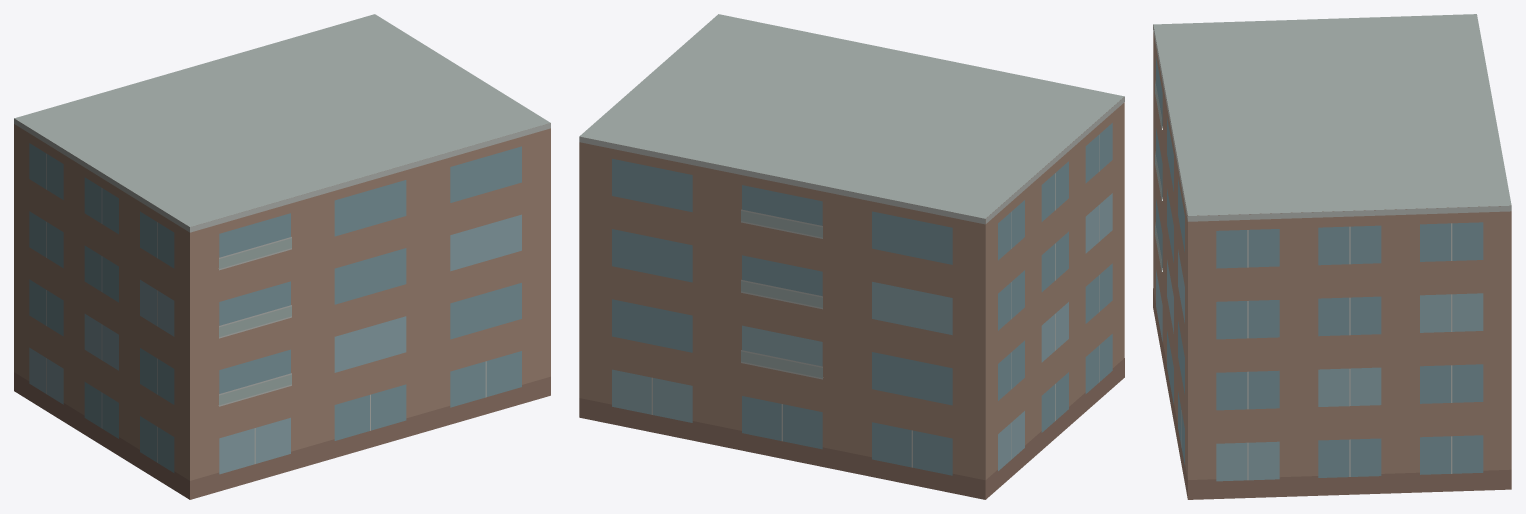
Rendered from survey-upis-33006680.glb.
3 views of the same model, side by side, from view 1: azimuth 30°, elevation 25°; view 2: azimuth 150°, elevation 25°; view 3: azimuth 270°, elevation 25° (orthographic). The views are drawn at different scales.
Visible parts, largest first — view 1: survey-upis-33006680.tmp; view 2: survey-upis-33006680.tmp; view 3: survey-upis-33006680.tmp.
Part boxes in pixels (x1,y1,x2,y2): survey-upis-33006680.tmp: (14, 14, 550, 499); survey-upis-33006680.tmp: (579, 14, 1124, 499); survey-upis-33006680.tmp: (1153, 14, 1511, 499).
Bounding box in the file's own units: 18.49 × 12.1 × 13.86.
